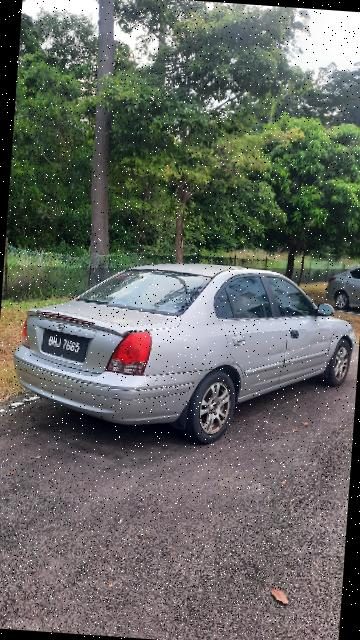License_Plate: (42, 329, 90, 365)
car: (7, 252, 360, 455)
